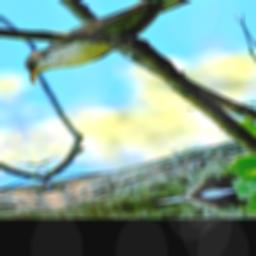Cuckoo: (0, 0, 246, 85)
